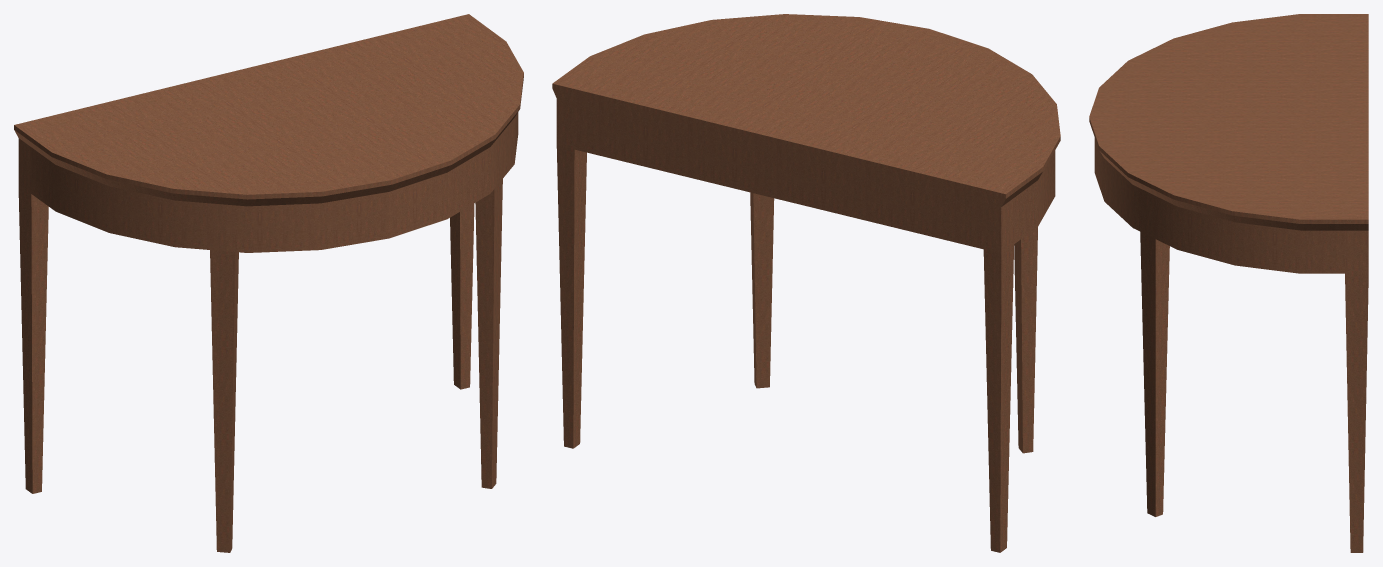
File: half_table.glb
3 views of the same model, side by side, from view 1: azimuth 30°, elevation 25°; view 2: azimuth 150°, elevation 25°; view 3: azimuth 270°, elevation 25° (orthographic). The views are drawn at different scales.
Parts seen in each view (by area): view 1: table_half_round; view 2: table_half_round; view 3: table_half_round.
Part boxes in pixels (left/top/right/bottom): table_half_round: left=14, top=14, right=523, bottom=552; table_half_round: left=552, top=14, right=1060, bottom=552; table_half_round: left=1089, top=14, right=1368, bottom=552.
Size of the model in its own units: 1.02 by 0.78 by 0.586.
1 material, 1 textured.
